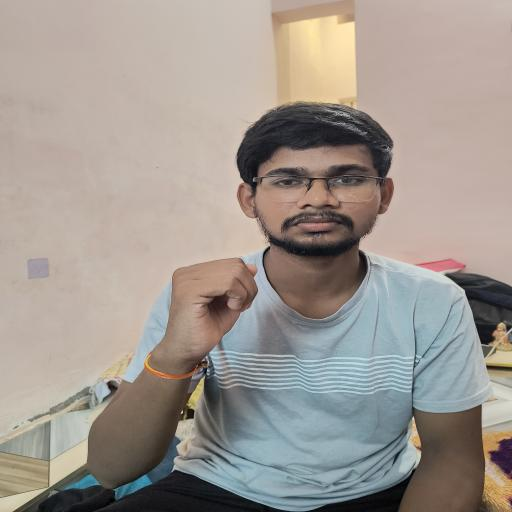wait: (152, 246, 280, 374)
